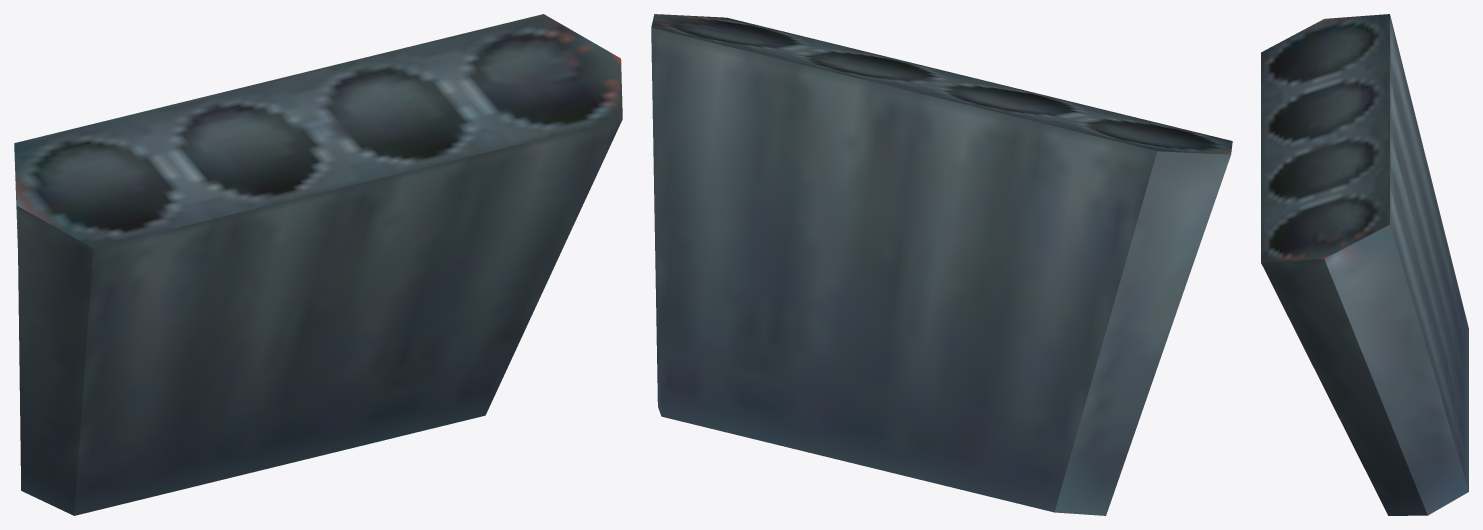
The model's file is Kart 1 Thruster.glb.
3 renders of one model, left to right at view 1: azimuth 30°, elevation 25°; view 2: azimuth 150°, elevation 25°; view 3: azimuth 270°, elevation 25°, orthographic. The views are drawn at different scales.
Parts seen in each view (by area): view 1: thrusters; view 2: thrusters; view 3: thrusters.
Part boxes in pixels (<box>): thrusters: <box>14,14,622,515</box>; thrusters: <box>651,14,1232,515</box>; thrusters: <box>1261,14,1468,515</box>.
Size of the model in its own units: 1.04 by 0.6377 by 0.3813.
Materials: 1 (1 with a texture image).
